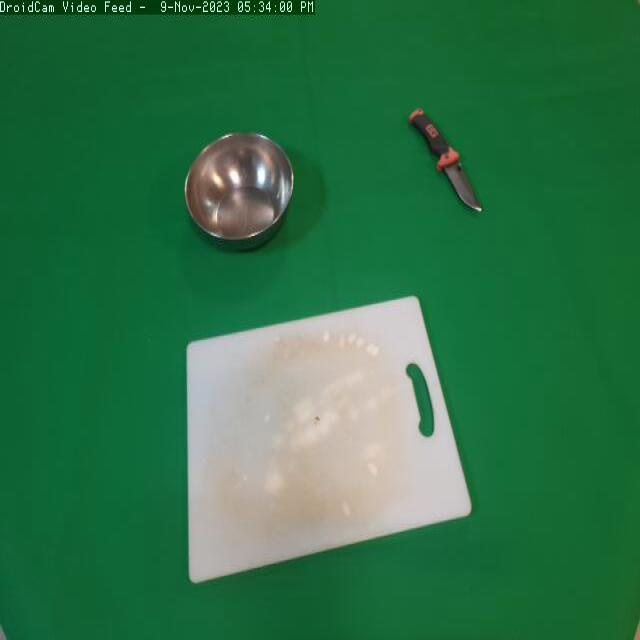bowl: (180, 124, 298, 265)
cutting board: (173, 287, 473, 591)
knife: (405, 100, 489, 226)
